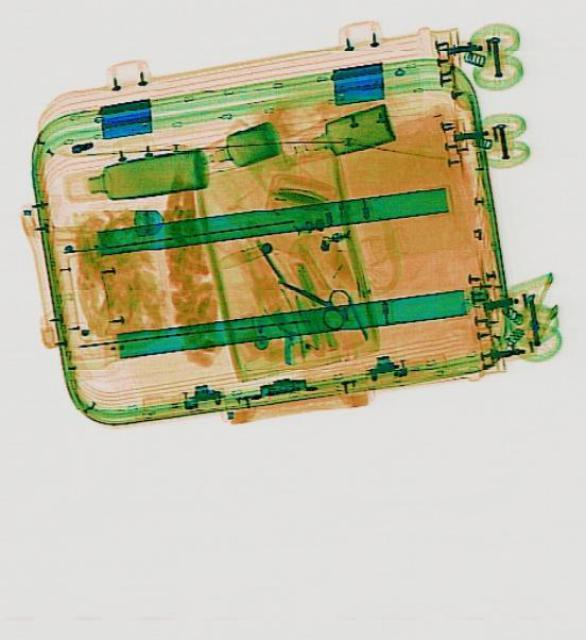Scissors: (269, 260, 355, 334)
